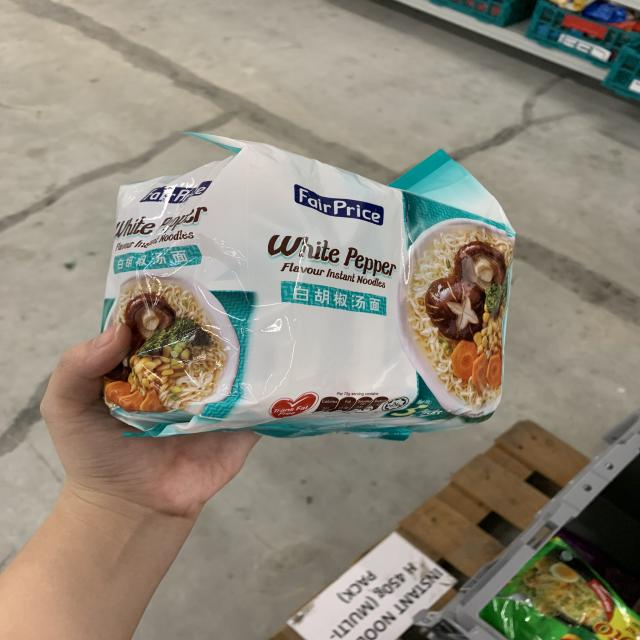object_name: (134, 161, 508, 421)
